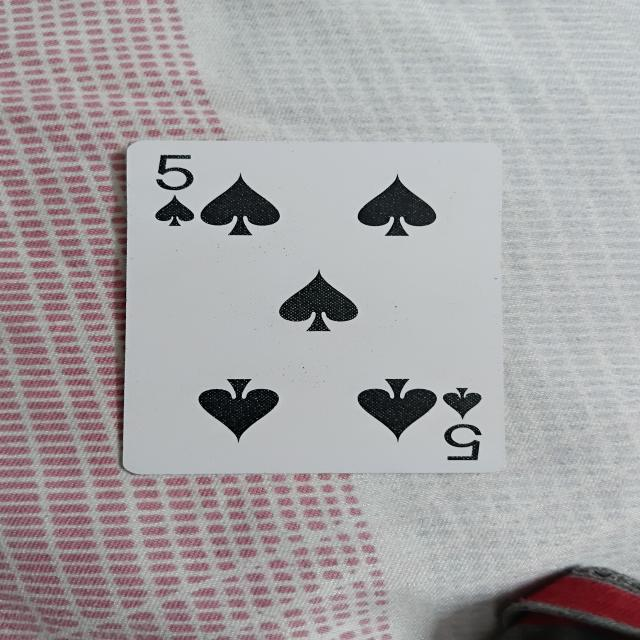5S: (140, 143, 497, 466)
